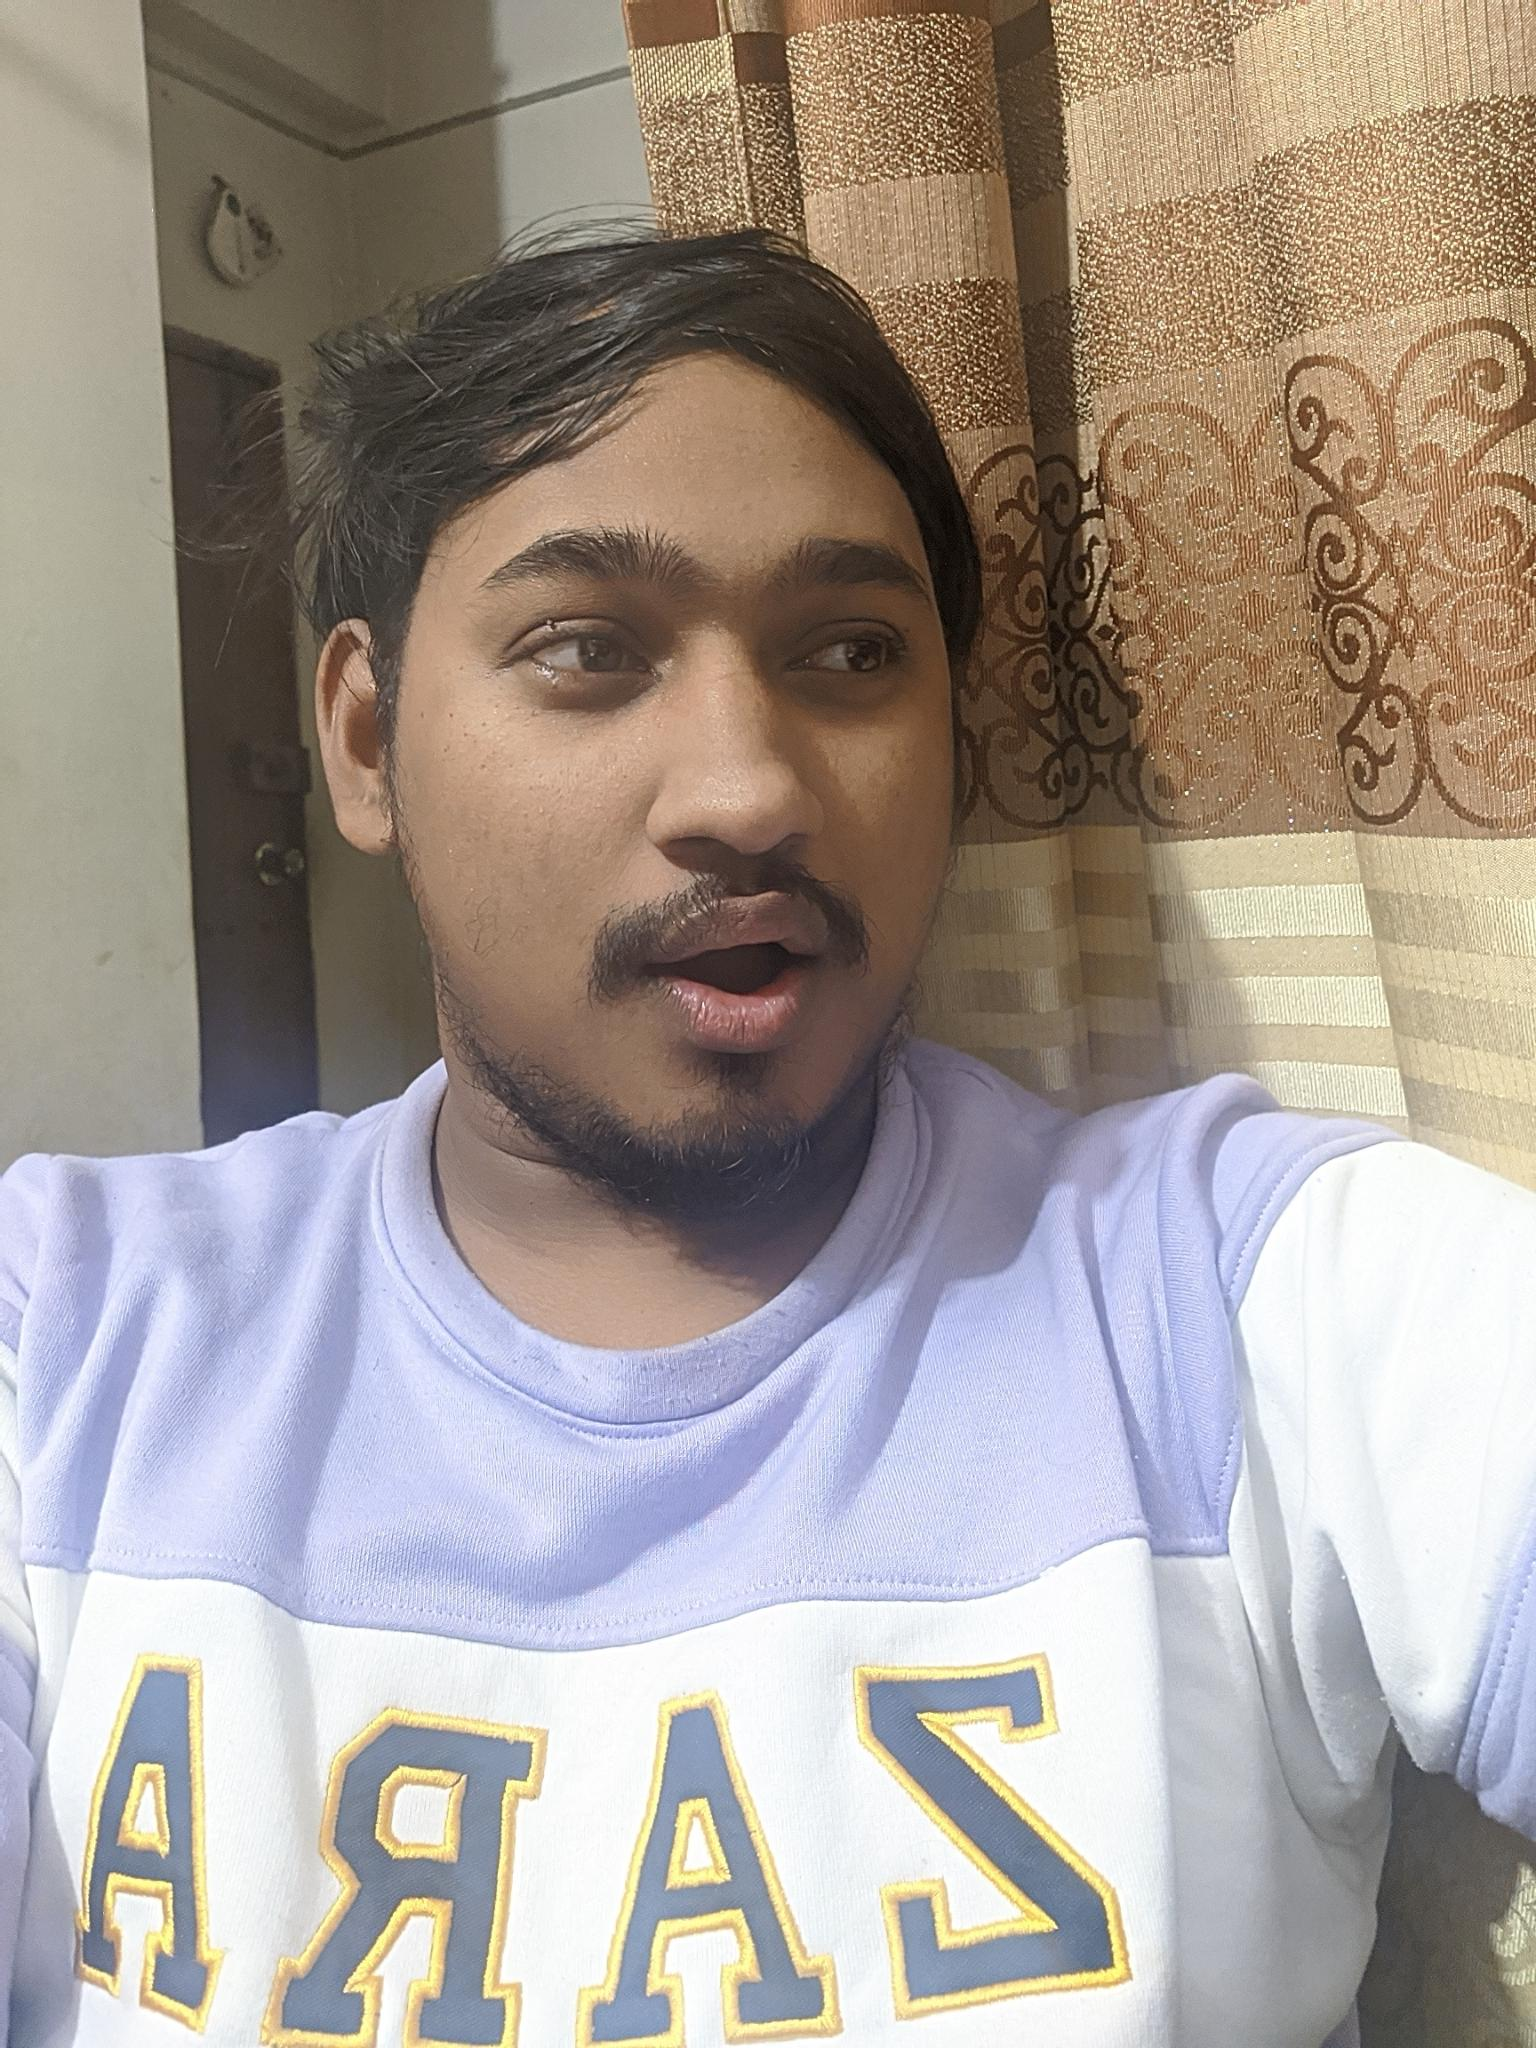Surprise: (442, 450, 984, 1193)
